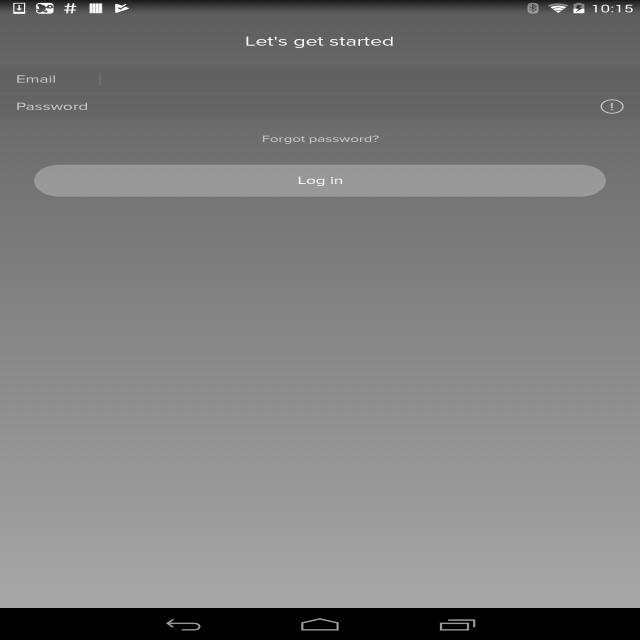Button: (34, 164, 606, 197)
EditText: (99, 99, 624, 114), (99, 72, 624, 86)
TextView: (261, 120, 379, 165), (244, 34, 394, 50), (16, 72, 89, 86), (16, 100, 89, 113)
